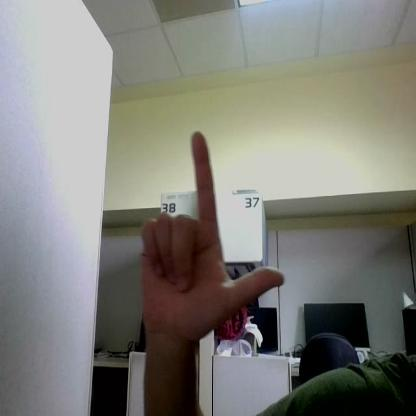L: (141, 132, 283, 340)
